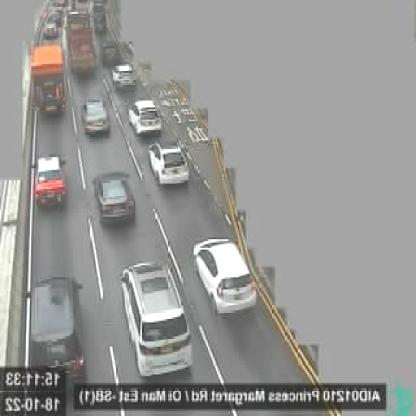Car: (117, 256, 192, 379), (24, 274, 86, 388), (191, 236, 258, 317), (93, 172, 137, 227), (146, 138, 191, 190), (32, 154, 69, 210), (80, 94, 113, 140), (128, 98, 164, 140), (108, 60, 138, 91)
Truck: (30, 46, 69, 121), (64, 5, 97, 80)
